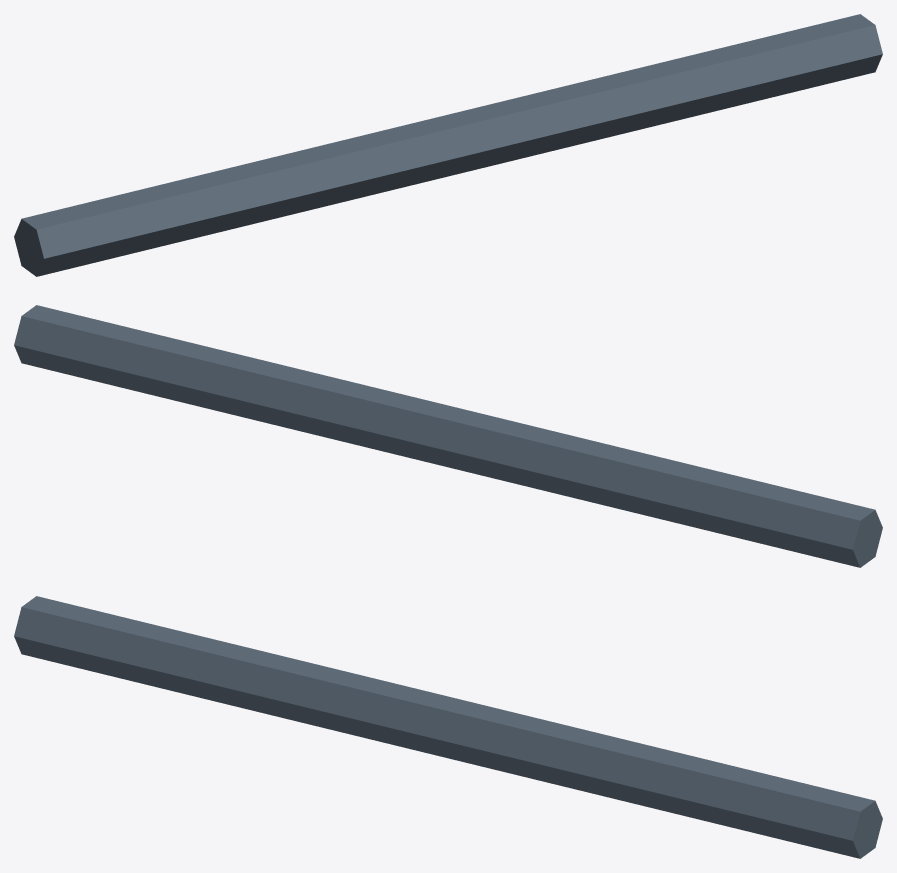
The model's file is steel stick.glb.
3 renders of one model, top to bottom at view 1: azimuth 30°, elevation 25°; view 2: azimuth 150°, elevation 25°; view 3: azimuth 330°, elevation 25°, orthographic.
Visible parts, largest first — view 1: Steel Stick; view 2: Steel Stick; view 3: Steel Stick.
Part boxes in pixels (left/top/right/bottom): Steel Stick: left=14, top=14, right=882, bottom=276; Steel Stick: left=14, top=305, right=882, bottom=567; Steel Stick: left=14, top=596, right=882, bottom=858.
Bounding box in the file's own units: 0.3219 × 0.0173 × 0.02.
